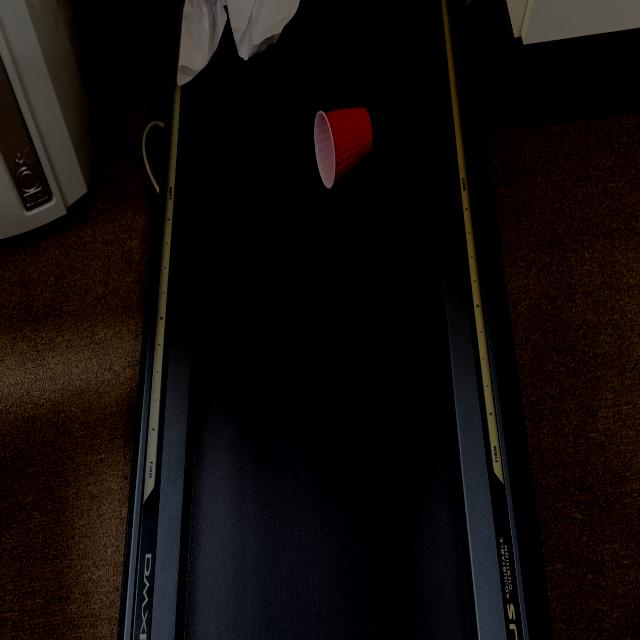Recycle: (175, 0, 302, 90), (310, 102, 374, 192)
